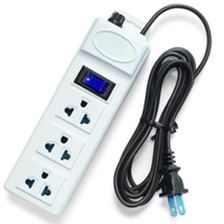three_eye_plug: (0, 4, 162, 219)
